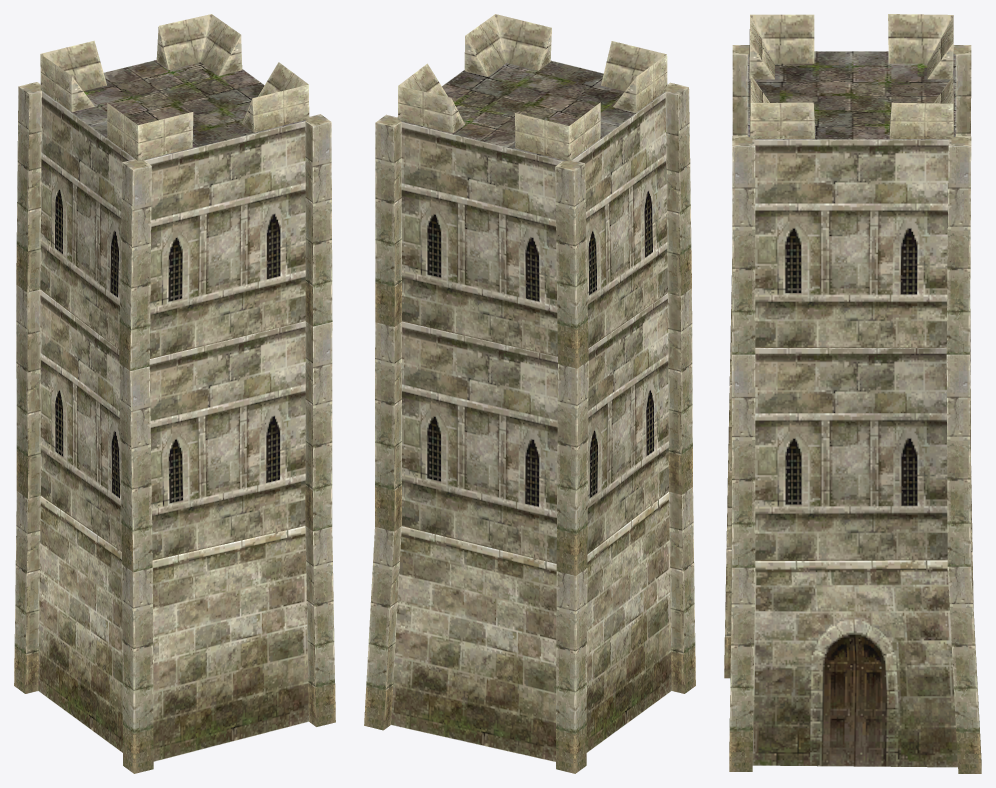
File: OZ_09_sn_T03blgd07B.glb
3 renders of one model, left to right at view 1: azimuth 30°, elevation 25°; view 2: azimuth 150°, elevation 25°; view 3: azimuth 270°, elevation 25°, orthographic. The views are drawn at different scales.
Parts seen in each view (by area): view 1: OM_09_sn_T03blgd07B; view 2: OM_09_sn_T03blgd07B; view 3: OM_09_sn_T03blgd07B.
Part boxes in pixels (x1,y1,x2,y2): OM_09_sn_T03blgd07B: [14, 14, 335, 773]; OM_09_sn_T03blgd07B: [364, 14, 695, 773]; OM_09_sn_T03blgd07B: [724, 14, 981, 773].
Size of the model in its own units: 5.25 by 15.37 by 5.41.
Materials: 4 (4 with a texture image).
